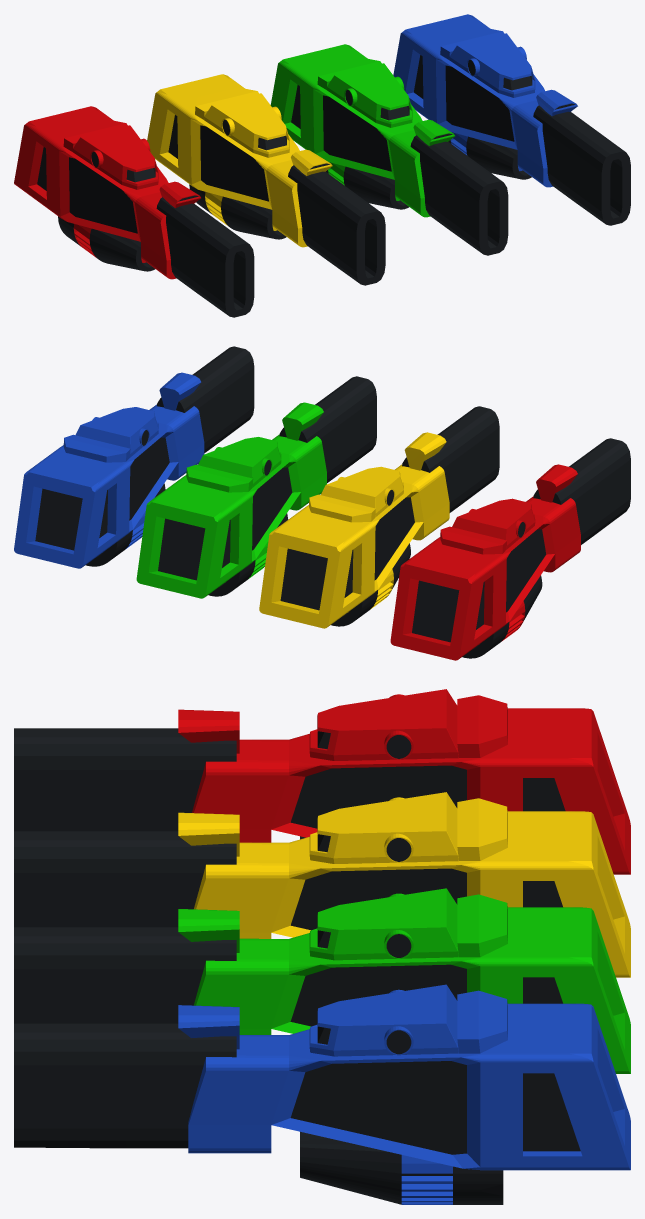
File: LaserGunLevel2.fbx
3 views of the same model, one above another, from view 1: azimuth 30°, elevation 25°; view 2: azimuth 150°, elevation 25°; view 3: azimuth 270°, elevation 25° (orthographic). The views are drawn at different scales.
Parts seen in each view (by area): view 1: LaserGunLevel2Red, LaserGunLevel2Yellow, LaserGunLevel2Green, LaserGunLevel2Blue; view 2: LaserGunLevel2Red, LaserGunLevel2Yellow, LaserGunLevel2Blue, LaserGunLevel2Green; view 3: LaserGunLevel2Blue, LaserGunLevel2Red, LaserGunLevel2Yellow, LaserGunLevel2Green.
Part boxes in pixels (x1=…): LaserGunLevel2Red: x1=14, y1=106, x2=254, y2=317; LaserGunLevel2Yellow: x1=147, y1=74, x2=385, y2=285; LaserGunLevel2Green: x1=270, y1=44, x2=508, y2=255; LaserGunLevel2Blue: x1=393, y1=14, x2=630, y2=225; LaserGunLevel2Red: x1=390, y1=438, x2=630, y2=660; LaserGunLevel2Yellow: x1=259, y1=406, x2=499, y2=628; LaserGunLevel2Blue: x1=14, y1=346, x2=254, y2=568; LaserGunLevel2Green: x1=136, y1=376, x2=376, y2=598; LaserGunLevel2Blue: x1=14, y1=984, x2=630, y2=1204; LaserGunLevel2Red: x1=14, y1=689, x2=630, y2=874; LaserGunLevel2Yellow: x1=14, y1=792, x2=630, y2=977; LaserGunLevel2Green: x1=14, y1=888, x2=630, y2=1073.
Bounding box in the file's own units: 310 × 80.67 × 230.
